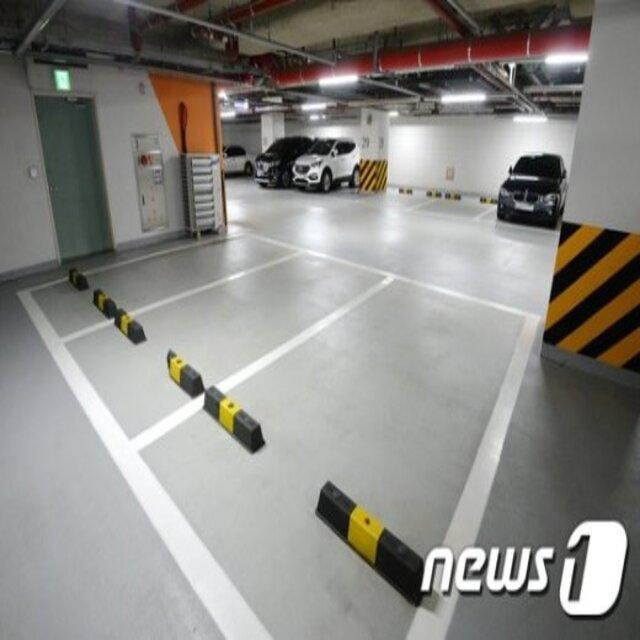Vacant: (113, 270, 541, 640), (41, 245, 402, 466), (17, 226, 318, 348)
